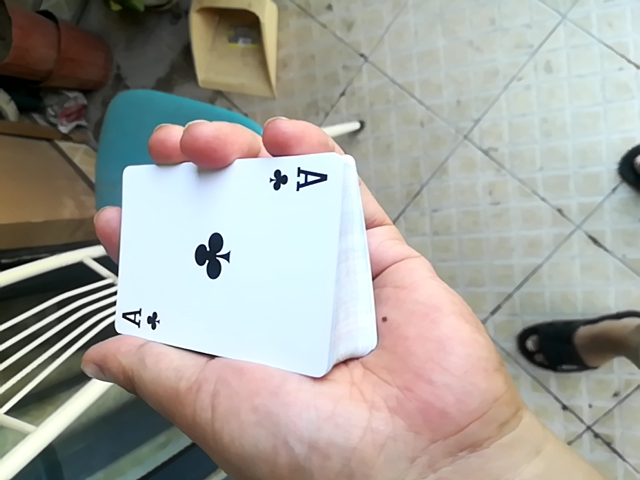mh a: (94, 154, 375, 377)
